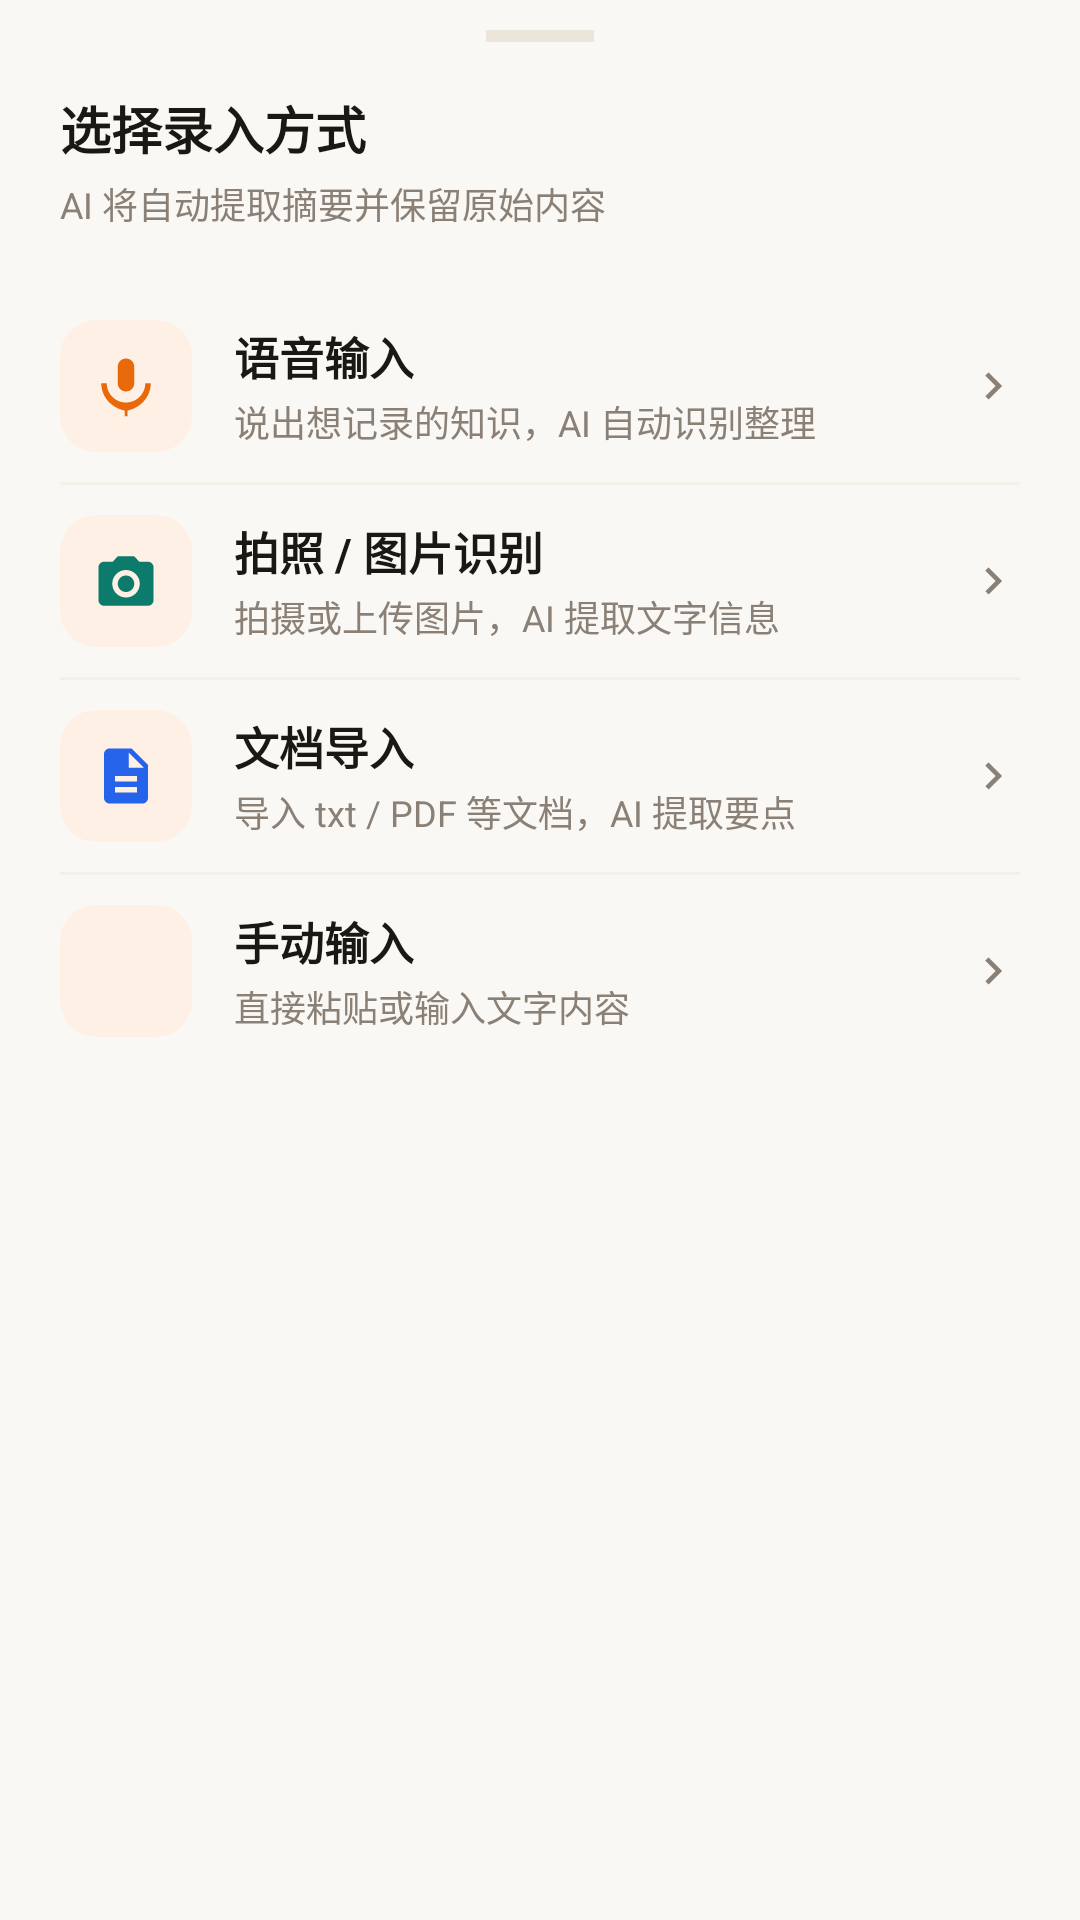

Icon bounding boxes for this 1080×1920 phone screenshot, format (x1, y1, x2, y2):
camera: (98, 556, 154, 606)
chevron right: (985, 372, 1002, 400), (985, 567, 1002, 595), (985, 762, 1002, 790), (985, 957, 1002, 985)
document: (104, 748, 148, 804)
mic: (101, 358, 151, 417)
